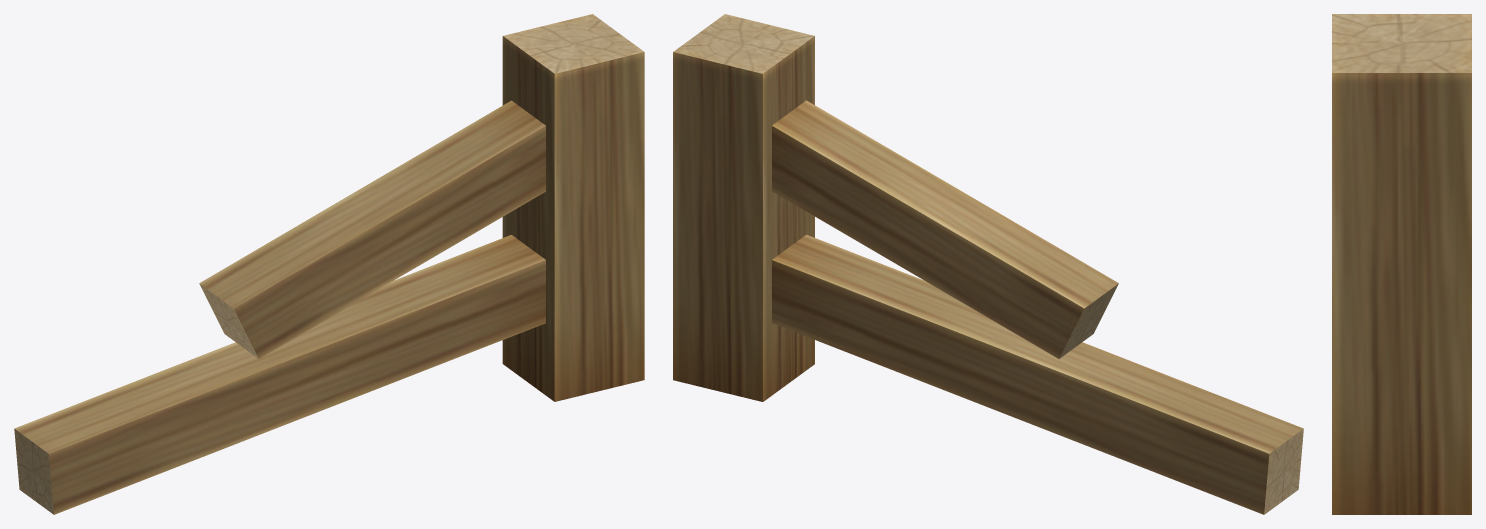
The model's file is WoodFence03.FBX.
The picture shows the model from 3 angles, left to right: view 1: azimuth 30°, elevation 25°; view 2: azimuth 150°, elevation 25°; view 3: azimuth 270°, elevation 25°; orthographic projection. The views are drawn at different scales.
Parts seen in each view (by area): view 1: WoodFence03; view 2: WoodFence03; view 3: WoodFence03.
Boxes of the visible parts, bbox=[...] form: WoodFence03: bbox=[14, 14, 644, 514]; WoodFence03: bbox=[673, 14, 1303, 514]; WoodFence03: bbox=[1332, 14, 1471, 514].
Size of the model in its own units: 154 by 82.06 by 23.55.
